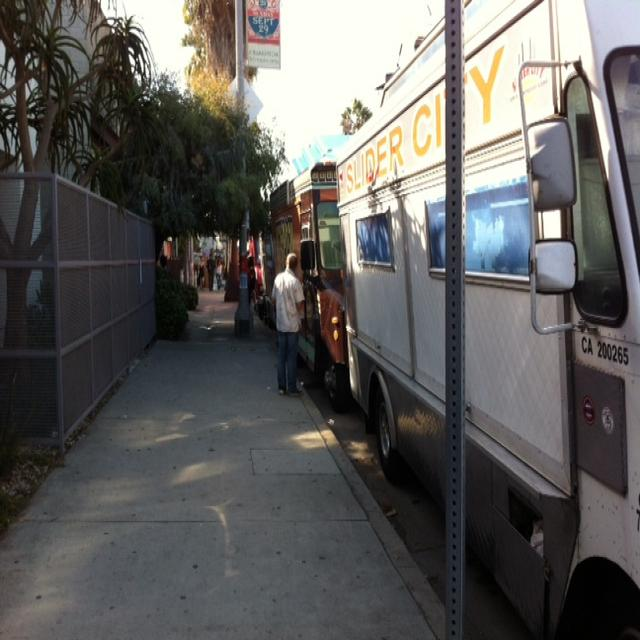Vehicle: (337, 2, 640, 633), (333, 0, 640, 493), (254, 154, 360, 413), (262, 159, 352, 414)
